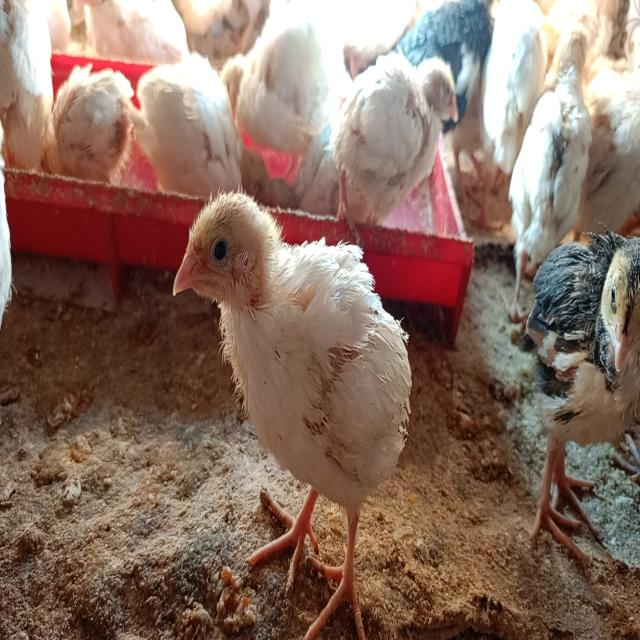Unhealthy: (163, 182, 422, 636)
